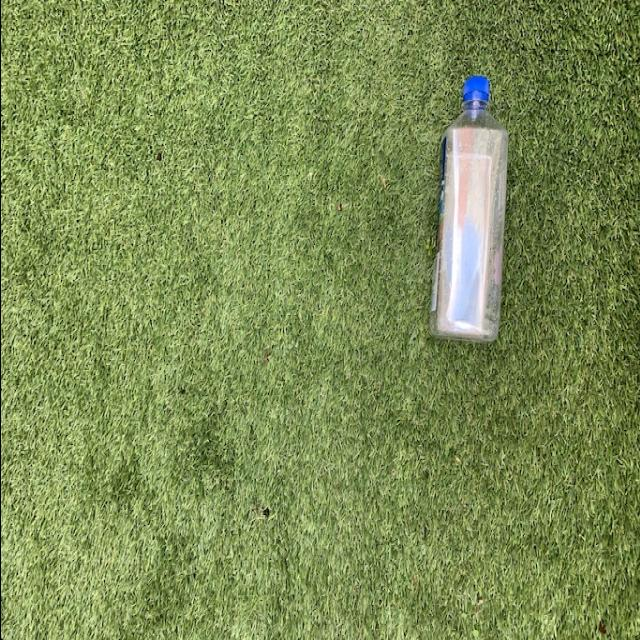litter: (422, 78, 508, 344)
